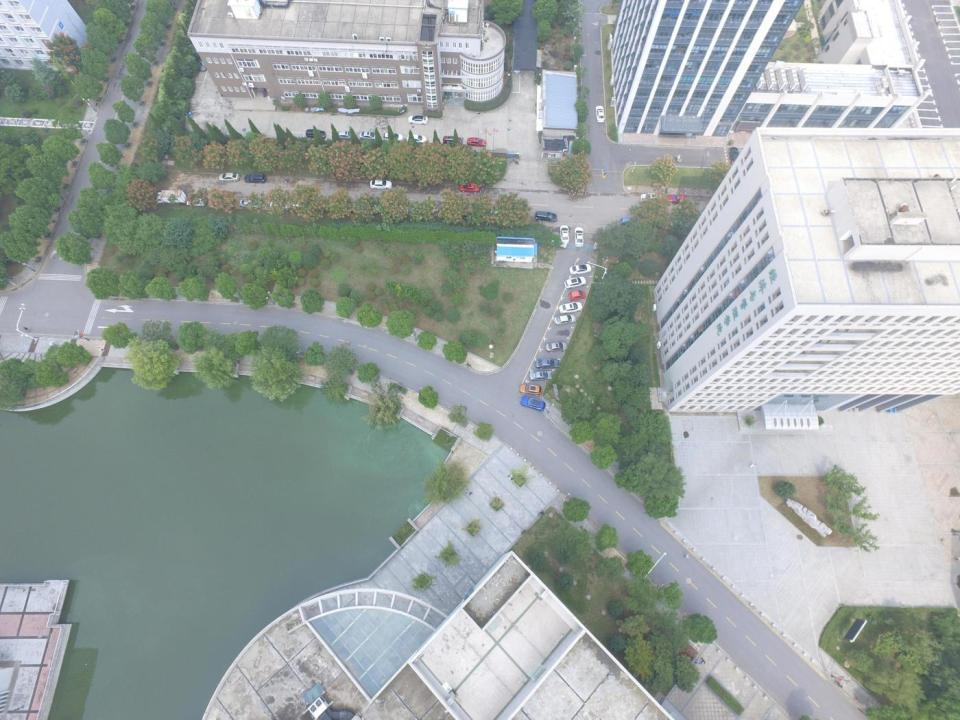car: (519, 396, 545, 412), (564, 276, 586, 290), (558, 302, 583, 314), (535, 358, 560, 370), (518, 384, 542, 396), (569, 263, 592, 275), (552, 314, 576, 325), (528, 371, 552, 382), (727, 146, 740, 166), (458, 183, 480, 194), (305, 128, 327, 139), (243, 173, 267, 183), (544, 342, 568, 352), (407, 114, 428, 125), (370, 179, 393, 189), (355, 204, 378, 214), (218, 172, 240, 182), (574, 226, 584, 248), (466, 137, 486, 148), (666, 194, 688, 204), (559, 224, 569, 245), (240, 199, 262, 208), (292, 201, 314, 210), (409, 207, 431, 216), (594, 105, 605, 123), (568, 290, 586, 301), (442, 135, 463, 144), (383, 132, 403, 141), (640, 193, 662, 201), (269, 201, 290, 209), (186, 198, 206, 206), (406, 134, 426, 142), (337, 130, 354, 139), (359, 131, 378, 139), (513, 56, 521, 74), (619, 217, 636, 225), (200, 56, 207, 73)
truck: (156, 188, 186, 204)
van: (534, 211, 558, 222)
